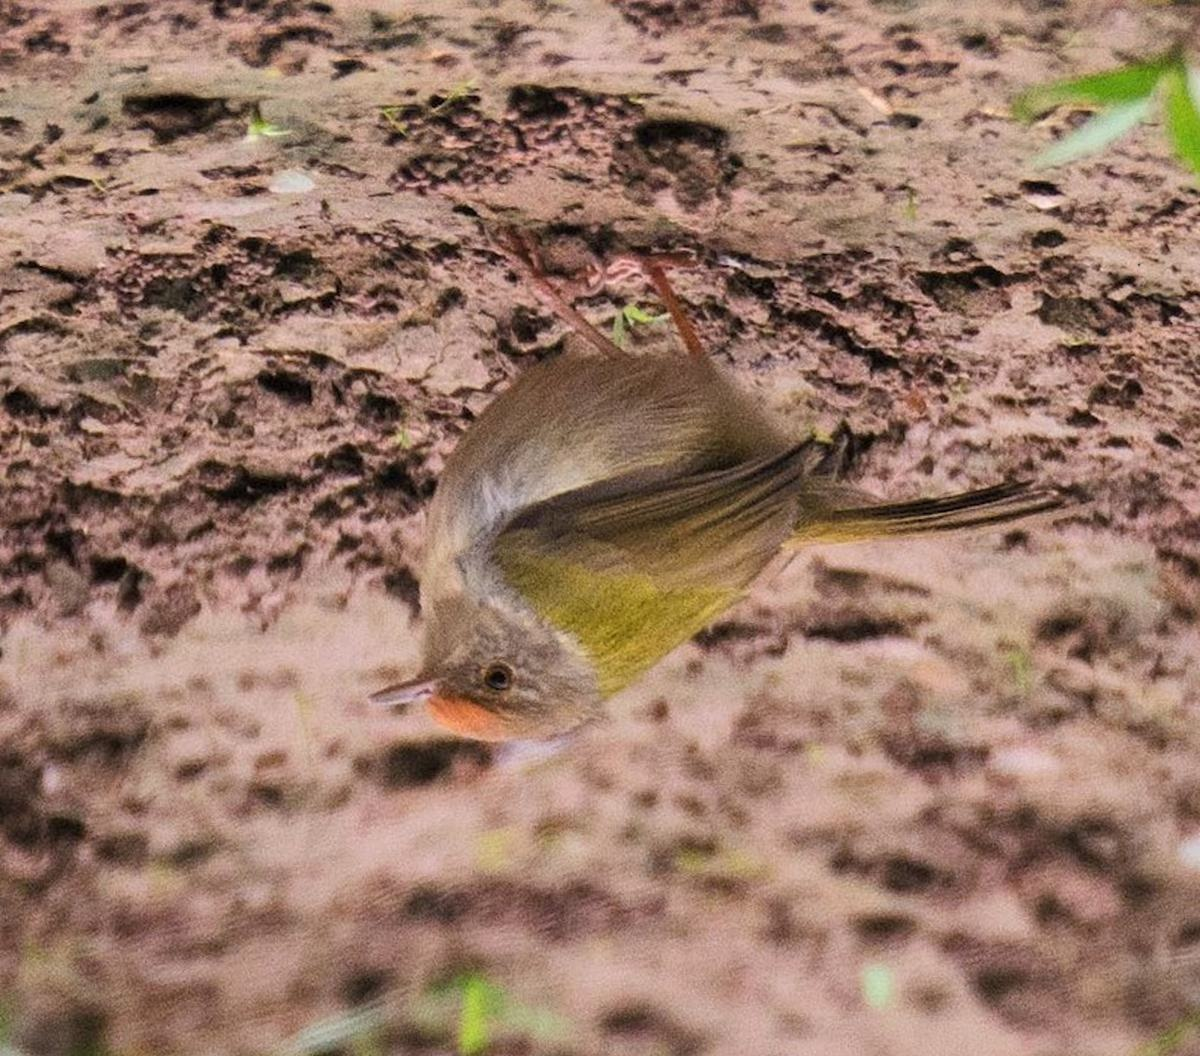tailorbird: (364, 227, 1095, 802)
